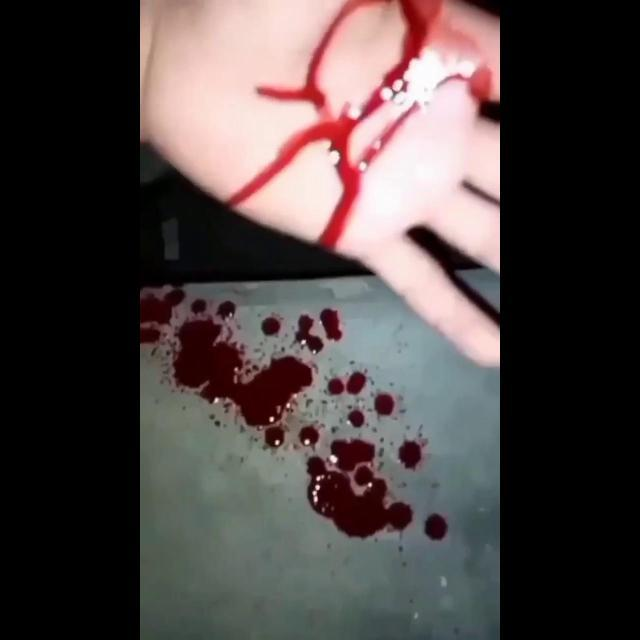blood: (140, 282, 414, 539), (226, 0, 442, 248), (429, 55, 491, 104), (398, 440, 428, 471), (424, 514, 448, 541)
